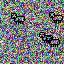sheep: (49, 11, 64, 23), (10, 13, 25, 24), (39, 32, 53, 43), (46, 37, 61, 47)
